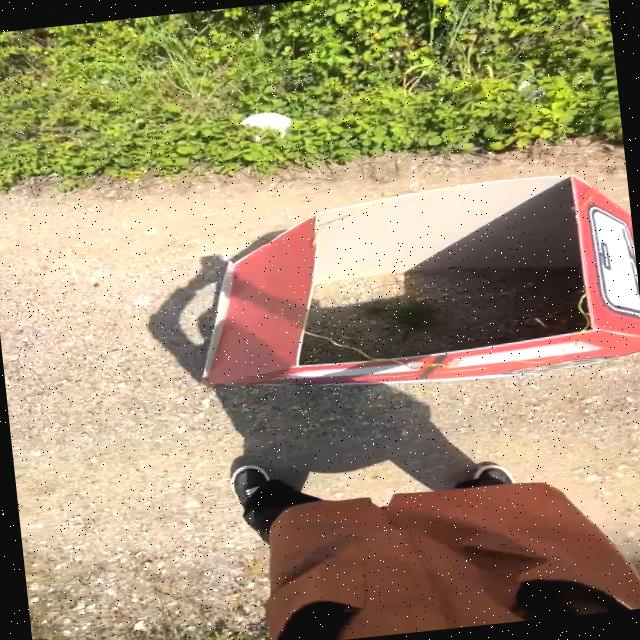red_car: (137, 145, 640, 427)
